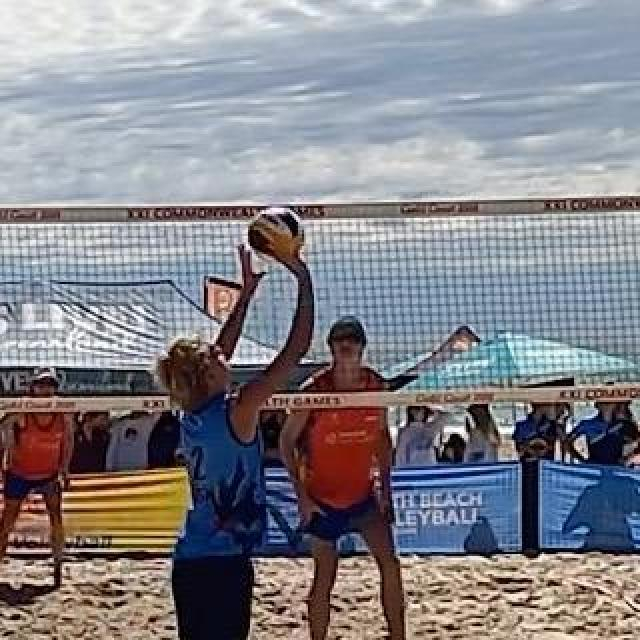volleyball: (249, 207, 303, 259)
